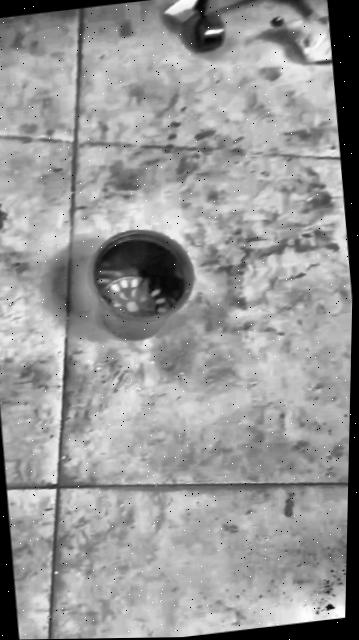pot: (83, 223, 199, 343)
